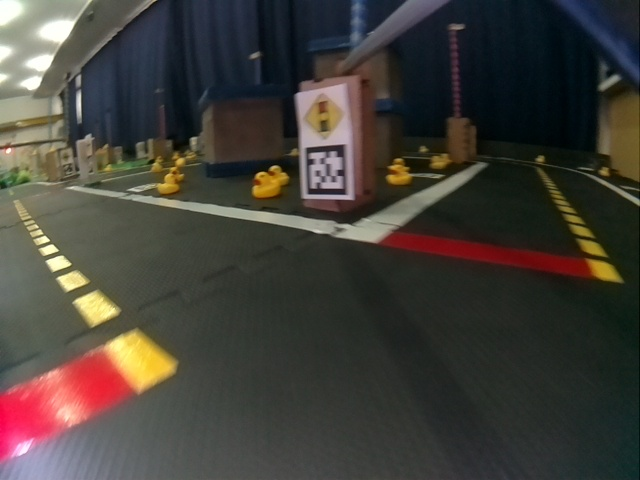Duckie: (251, 173, 280, 197), (386, 165, 408, 183), (269, 168, 290, 185), (158, 176, 178, 193), (431, 156, 446, 169), (170, 167, 185, 179)
QR code: (301, 147, 354, 196), (128, 183, 162, 192)
Signal sign: (299, 90, 351, 140)
